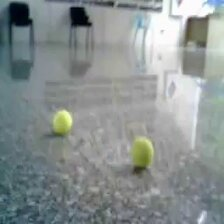tennis: (130, 135, 154, 167), (53, 109, 72, 134)
